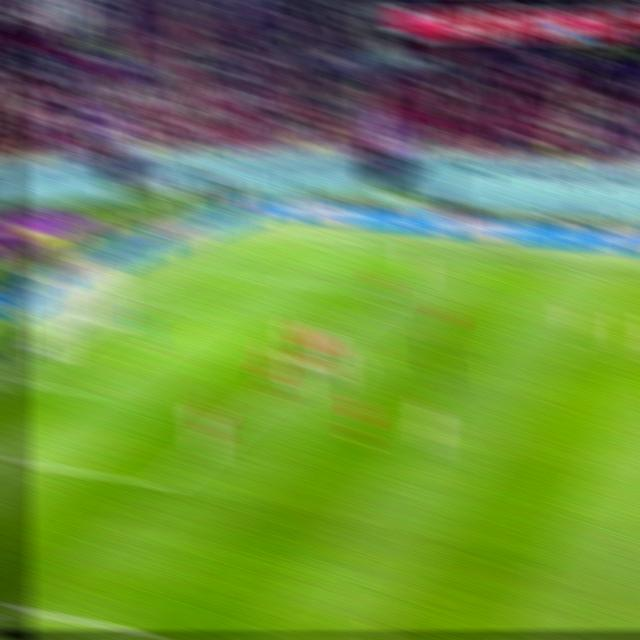bigarea_bottom_inner: (146, 469, 179, 498)
bigarea_top_inner: (373, 283, 405, 304)
bigarea_top_outter: (196, 261, 227, 281)
bottom_arc_area_intersection: (242, 393, 273, 415)
corner: (258, 228, 289, 246)
smallarea_bottom_inner: (72, 376, 106, 405)
smallarea_bottom_outter: (4, 369, 33, 391)
smallarea_top_inner: (195, 304, 225, 324)
smallarea_top_outter: (135, 295, 164, 315)
top_arc_area_intersection: (322, 327, 351, 347)
